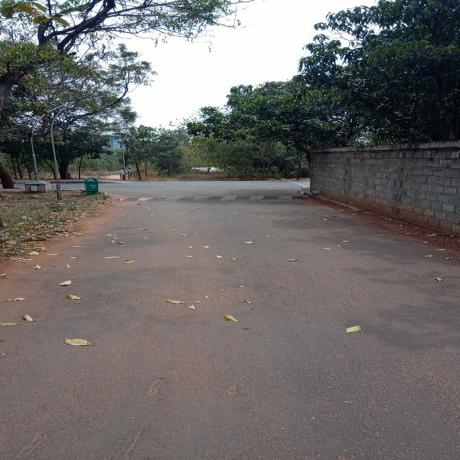Speed Bump: (100, 192, 317, 204)
